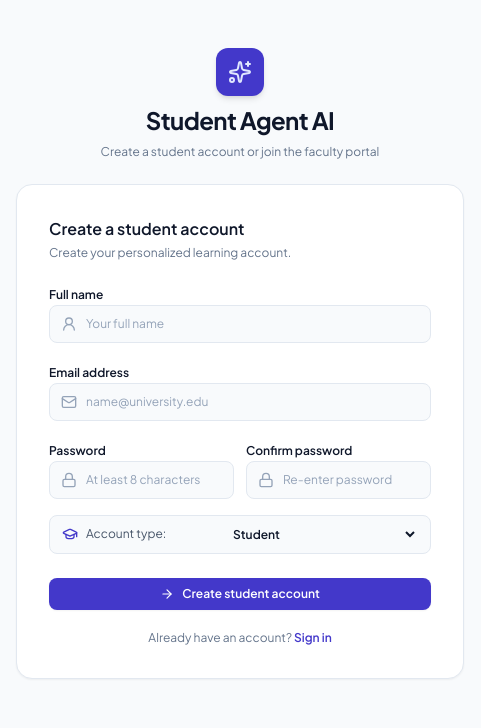
Test: student registration UI › validates required fields, email format, and the minimum password length
Type "Jordan Lee" into the field labelled "Full name" at (240, 324), box [49,304,431,342]
Type "not-an-email" into the field labelled "Email address" at (240, 402), box [49,382,431,420]
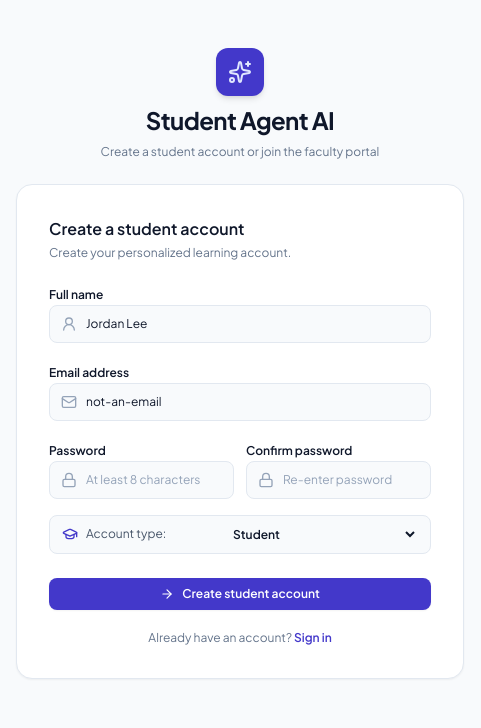
Type "short" into the password field labelled "Password" at (142, 480), box [49,460,234,498]
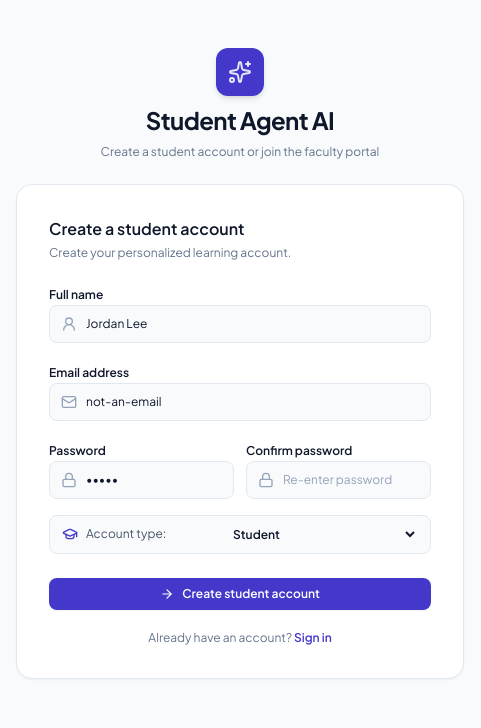
Type "short" into the password field labelled "Confirm password" at (338, 480), box [246,460,431,498]
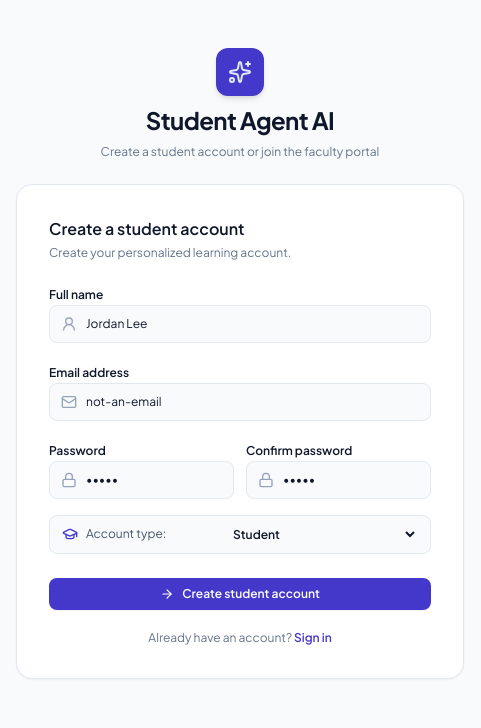
Submit the form named "Create student account", box [49,280,431,610]
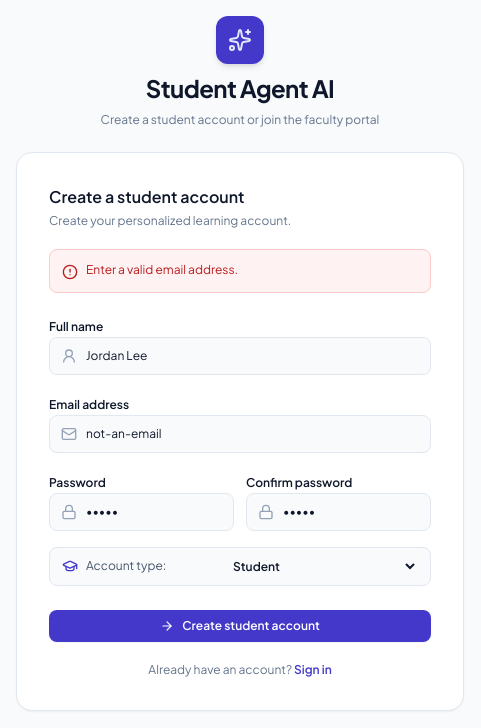
Expected: the message reads "Enter a valid email address.", [86,262,238,276]
Replace the text in the field labelled "Email address" with "jordan@example.edu" at (240, 434), box [49,414,431,452]
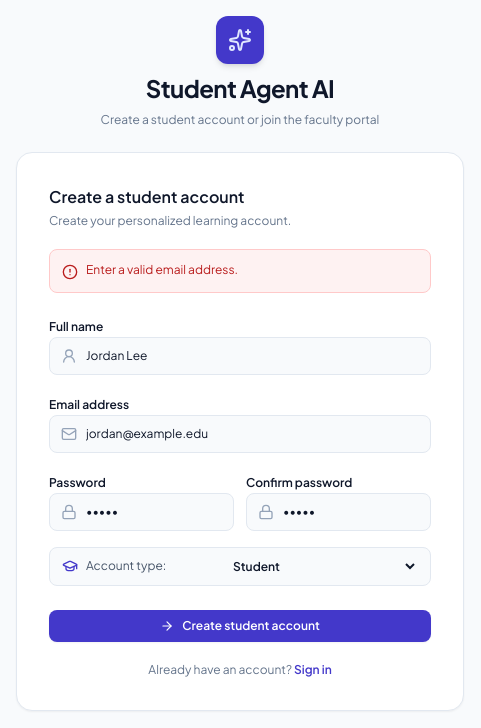
Submit the form named "Create student account", box [49,312,431,642]
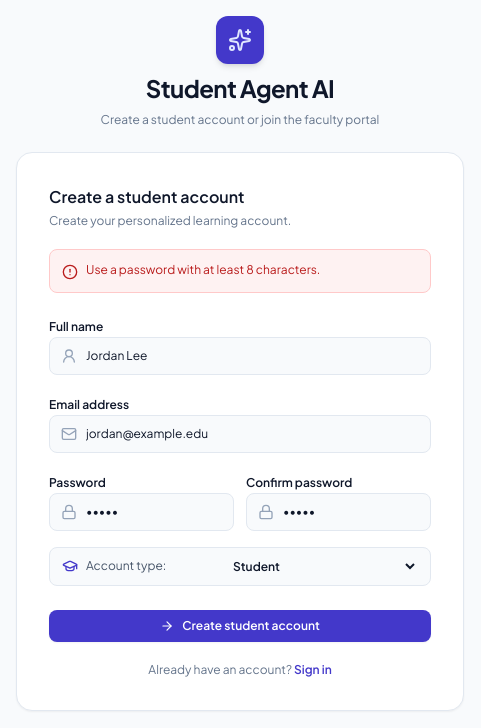
Expected: the message reads "Use a password with at least 8 characters.", [86,262,320,276]
